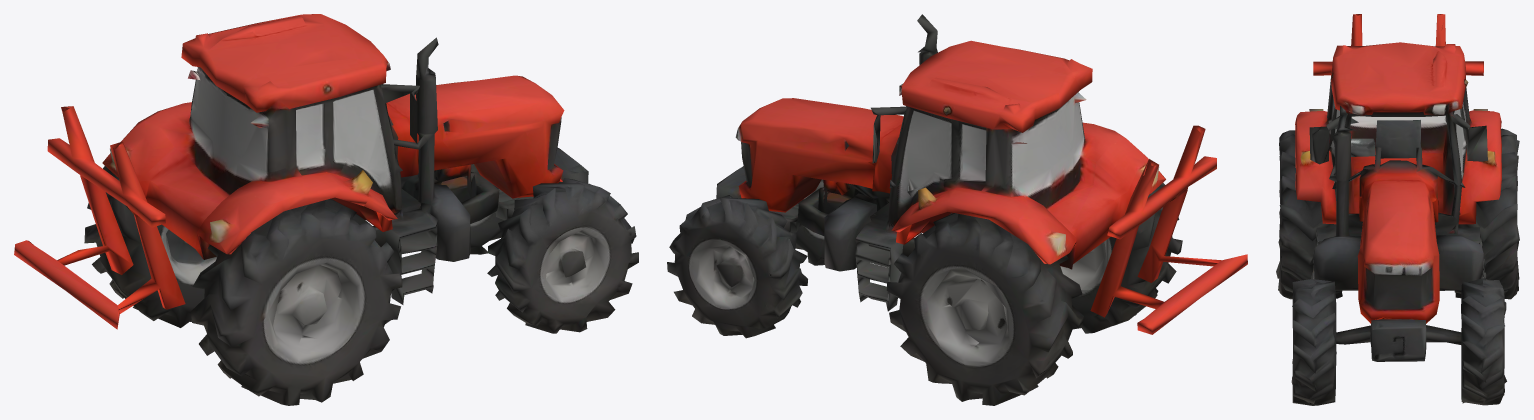
The model's file is tractor.glb.
The picture shows the model from 3 angles, left to right: view 1: azimuth 30°, elevation 25°; view 2: azimuth 150°, elevation 25°; view 3: azimuth 270°, elevation 25°; orthographic projection. The views are drawn at different scales.
Parts seen in each view (by area): view 1: tractor-0; view 2: tractor-0; view 3: tractor-0.
Part boxes in pixels (x1=…): tractor-0: x1=14, y1=14, x2=638, y2=405; tractor-0: x1=667, y1=14, x2=1247, y2=405; tractor-0: x1=1276, y1=14, x2=1519, y2=405.
Size of the model in its own units: 1 by 0.5656 by 0.4992.
1 material, 1 textured.
